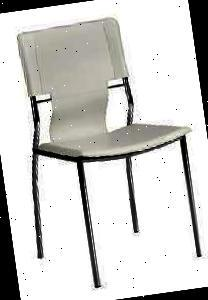Silla: (12, 14, 207, 296)
